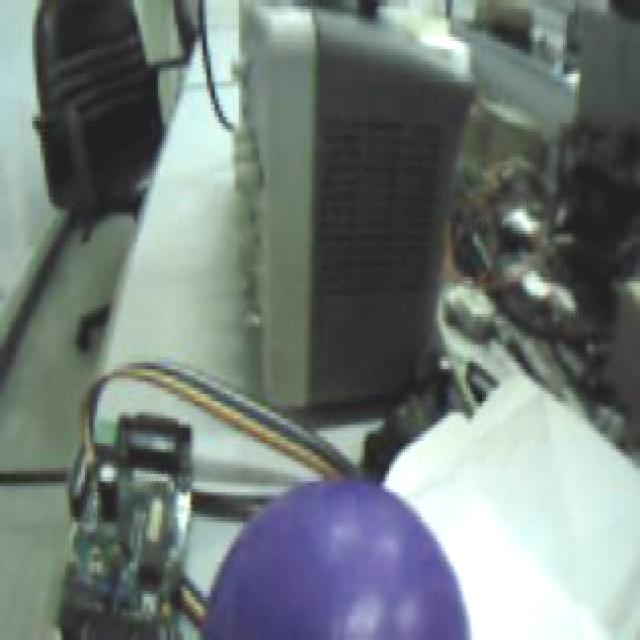BallPurple: (203, 474, 470, 640)
